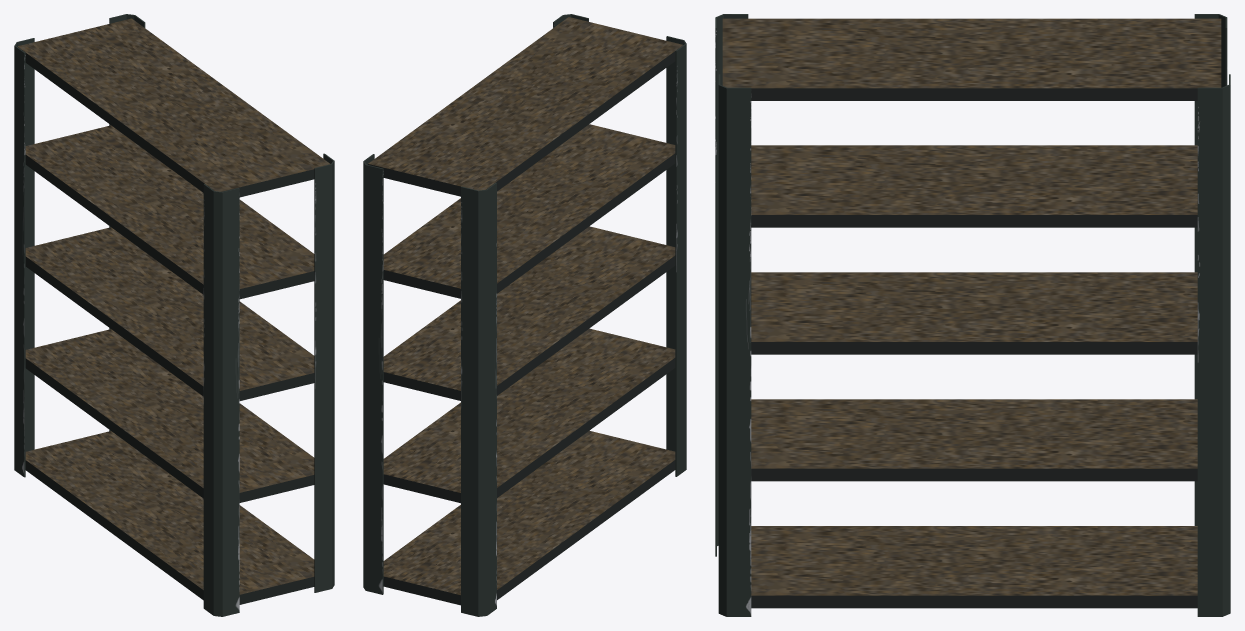
Rendered from Shelves.fbx.
The picture shows the model from 3 angles, left to right: view 1: azimuth 30°, elevation 25°; view 2: azimuth 150°, elevation 25°; view 3: azimuth 270°, elevation 25°; orthographic projection. The views are drawn at different scales.
Parts seen in each view (by area): view 1: ShelfCross; view 2: ShelfCross; view 3: ShelfCross.
Part boxes in pixels (x1,y1,x2,y2): ShelfCross: (14,14,334,616); ShelfCross: (363,14,686,616); ShelfCross: (715,14,1230,616).
Bounding box in the file's own units: 481 × 1594 × 1409.
2 materials, 2 textured.
